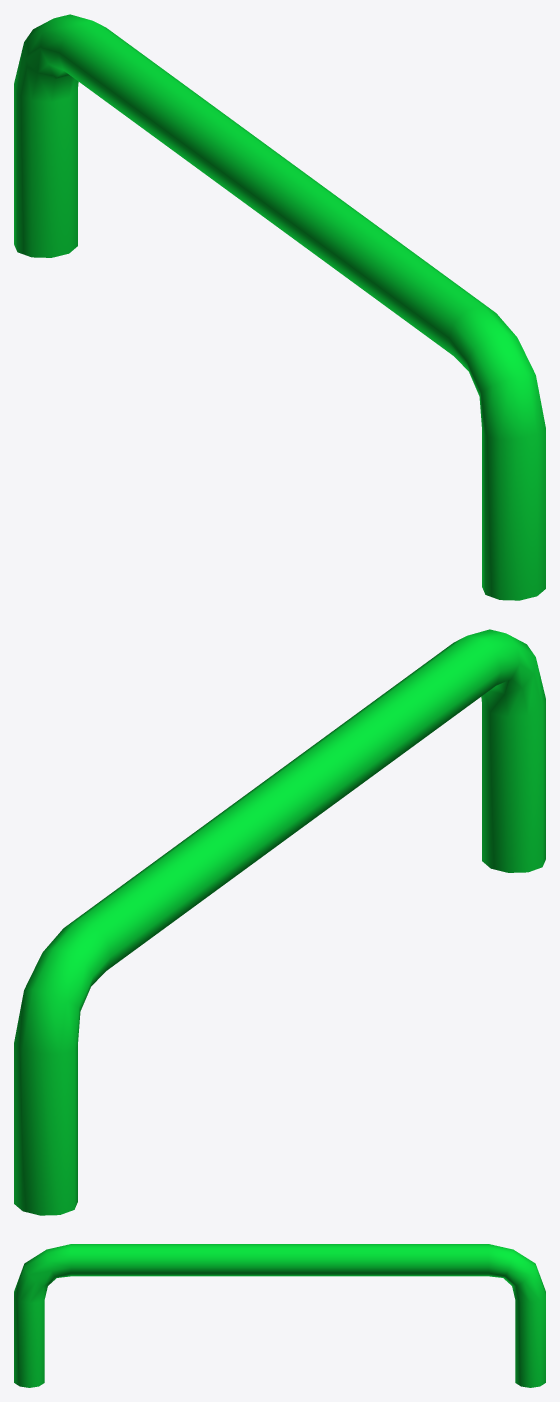
The model's file is Fence_02.fbx.
3 views of the same model, one above another, from view 1: azimuth 30°, elevation 25°; view 2: azimuth 150°, elevation 25°; view 3: azimuth 270°, elevation 25° (orthographic). The views are drawn at different scales.
Parts seen in each view (by area): view 1: Fence_02; view 2: Fence_02; view 3: Fence_02.
Boxes of the visible parts, box(x1,y1,x2,y2) form: Fence_02: box(14, 14, 545, 600); Fence_02: box(14, 629, 545, 1215); Fence_02: box(14, 1244, 545, 1387).
Size of the model in its own units: 0.5433 by 2.28 by 8.19.
